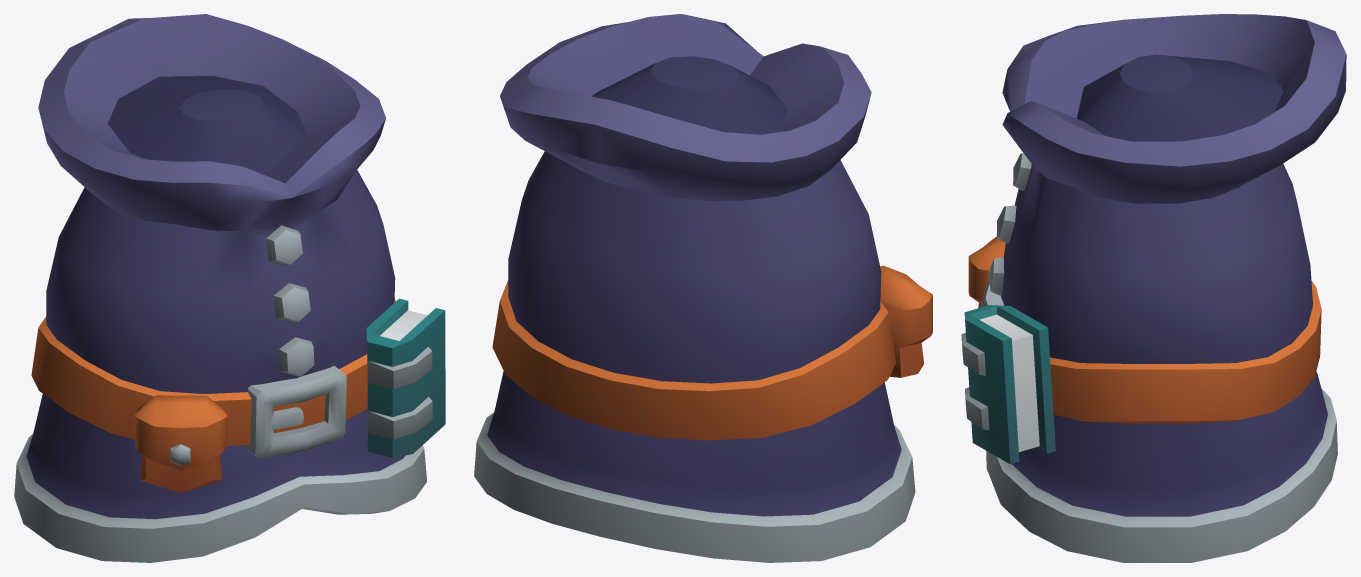
The model's file is chest_robe-x8LhDzsg.glb.
3 views of the same model, side by side, from view 1: azimuth 30°, elevation 25°; view 2: azimuth 150°, elevation 25°; view 3: azimuth 270°, elevation 25° (orthographic). The views are drawn at different scales.
Parts seen in each view (by area): view 1: Mage_Body; view 2: Mage_Body; view 3: Mage_Body.
Part boxes in pixels (<box>): Mage_Body: <box>14,14,445,562</box>; Mage_Body: <box>474,14,932,562</box>; Mage_Body: <box>961,14,1346,562</box>.
Size of the model in its own units: 0.8521 by 0.9549 by 0.763.
1 material, 1 textured.
